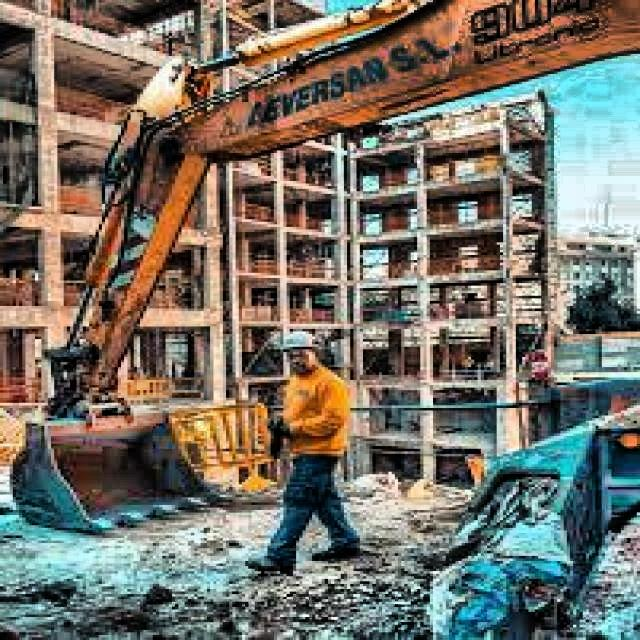bull_dozer/loader/grader: (6, 0, 640, 533)
person: (259, 330, 363, 576)
